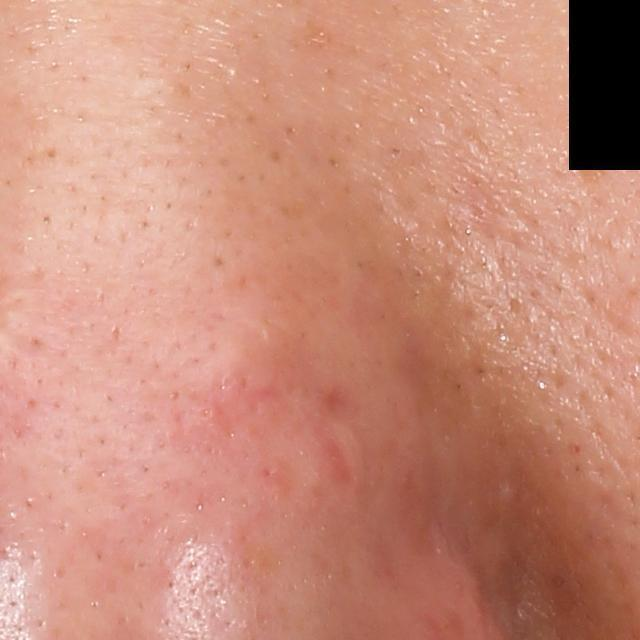melasma: (568, 149, 607, 187)
